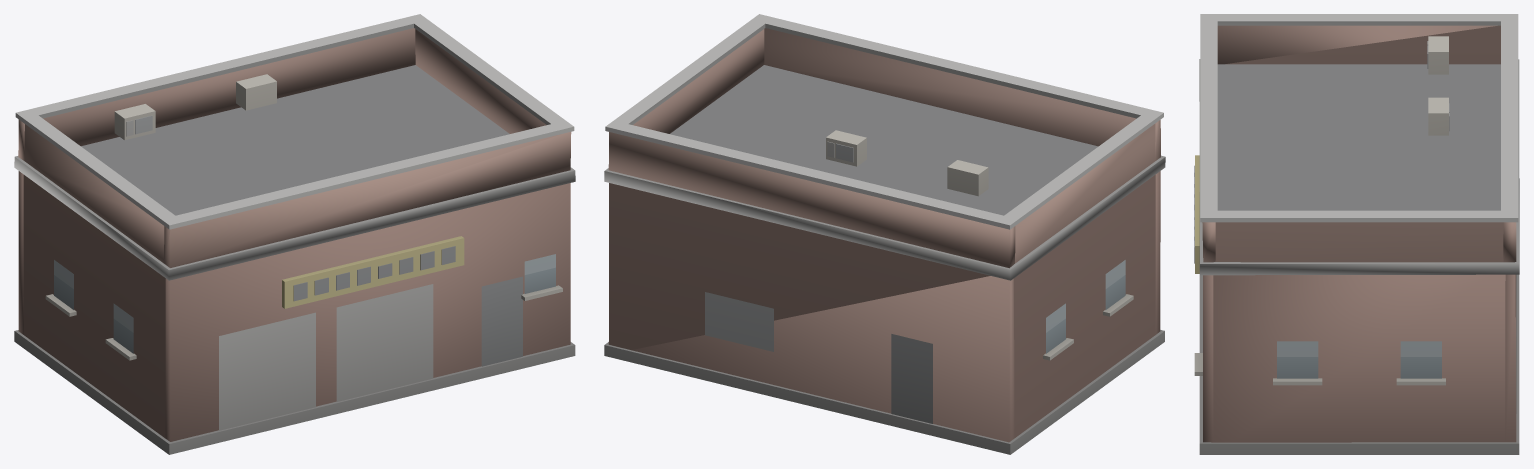
File: repair.lod1.glb
The picture shows the model from 3 angles, left to right: view 1: azimuth 30°, elevation 25°; view 2: azimuth 150°, elevation 25°; view 3: azimuth 270°, elevation 25°; orthographic projection. The views are drawn at different scales.
Bounding box in the file's own units: 12 × 6.62 × 7.9.
